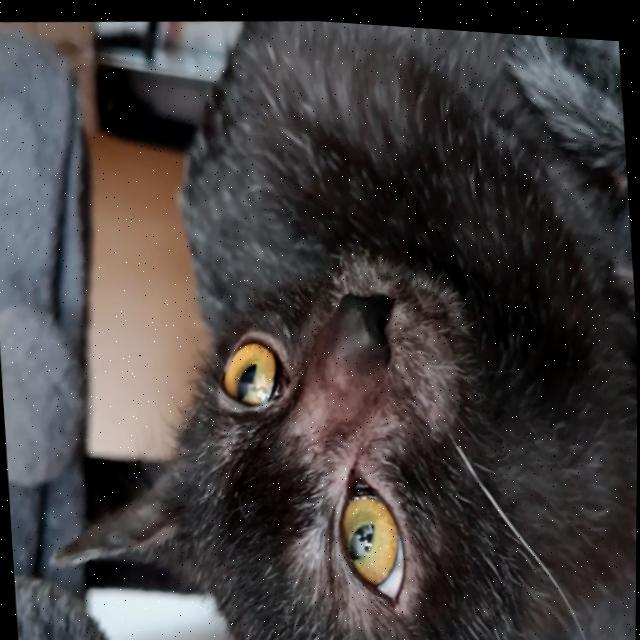Lykoi: (2, 0, 640, 640)
